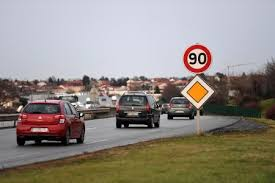Speed_limit_90km: (183, 44, 212, 74)
car: (15, 98, 88, 149), (111, 91, 164, 131)
